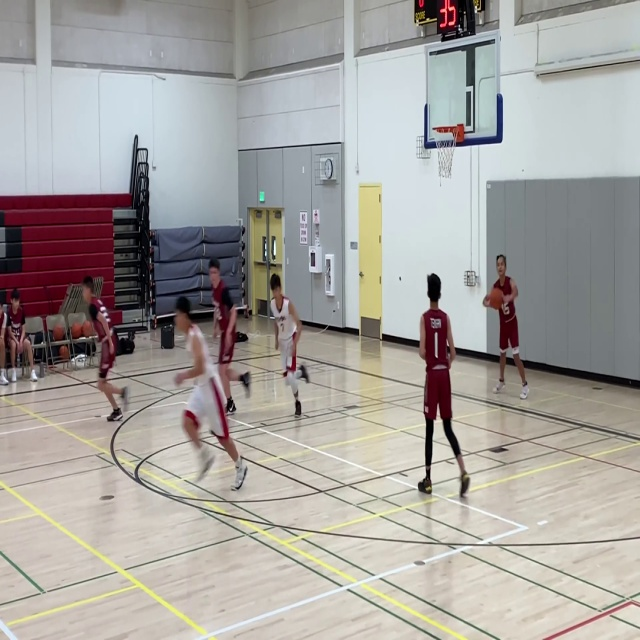Basketball: (489, 288, 503, 309), (82, 320, 95, 337), (53, 326, 65, 341), (71, 323, 82, 338), (59, 345, 70, 359)
